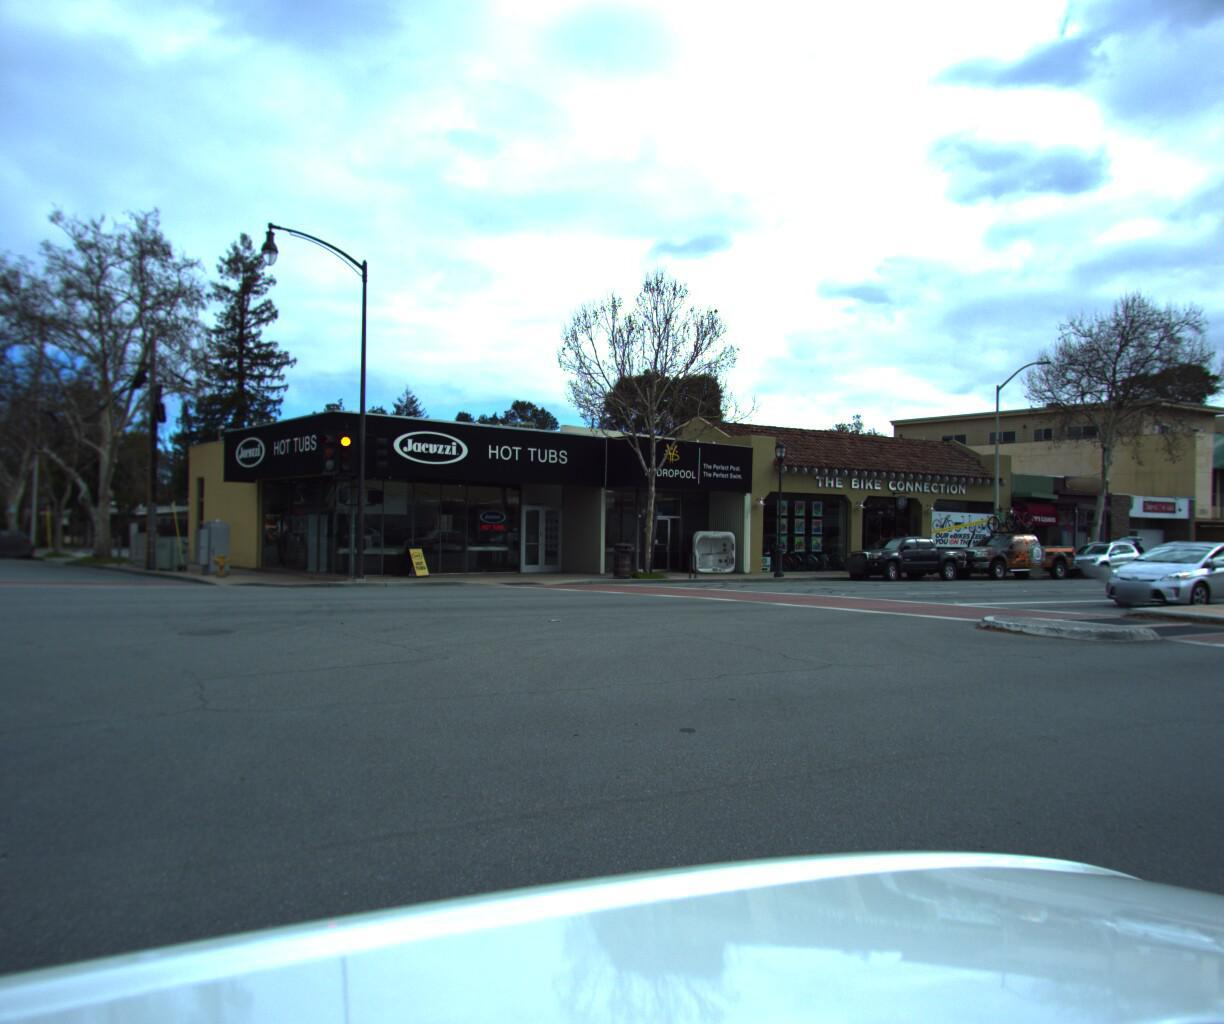car: (1082, 532, 1224, 610), (940, 500, 1076, 578), (832, 530, 968, 580), (1048, 529, 1148, 573), (0, 525, 38, 558), (0, 524, 11, 554)
